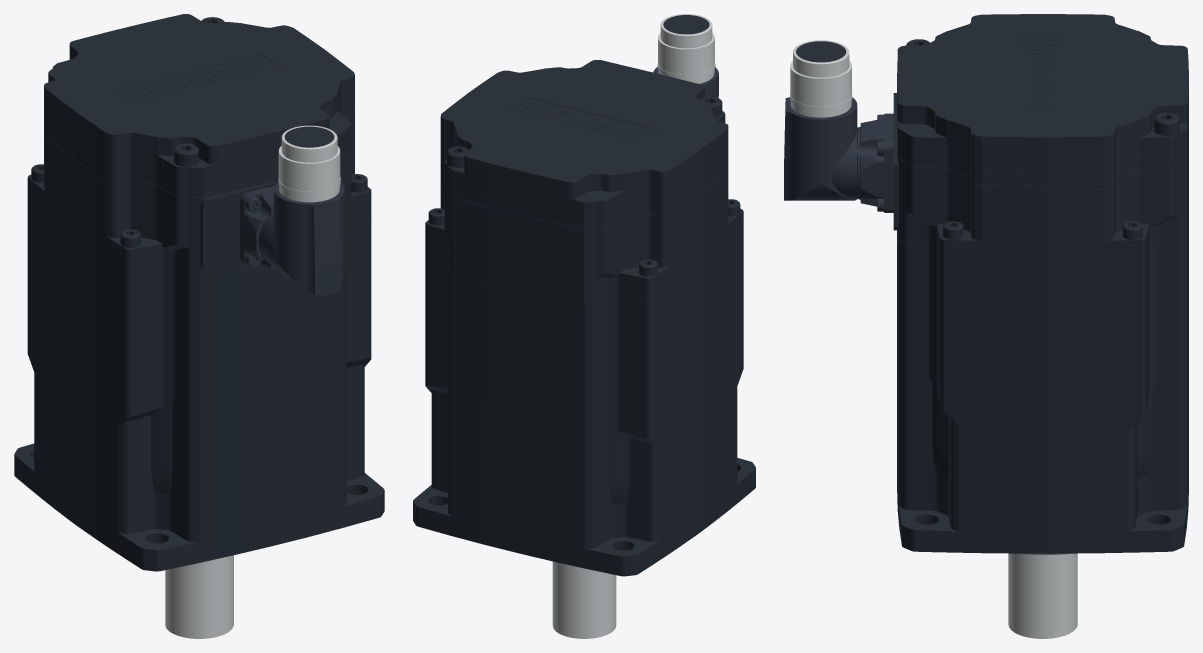
The picture shows the model from 3 angles, left to right: view 1: azimuth 30°, elevation 25°; view 2: azimuth 150°, elevation 25°; view 3: azimuth 270°, elevation 25°; orthographic projection. The views are drawn at different scales.
Parts seen in each view (by area): view 1: 1FK21045AF000MA0_PART1, 1FK21045AF000MA0_PART4, 1FK21045AF000MA0_PART2, 1FK21045AF000MA0_PART6, 1FK21045AF000MA0_PART9, 1FK21045AF000MA0_PART3, 1FK21045AF000MA0_PART5, 1FK21045AF000MA0_PART7; view 2: 1FK21045AF000MA0_PART1, 1FK21045AF000MA0_PART4, 1FK21045AF000MA0_PART2, 1FK21045AF000MA0_PART9, 1FK21045AF000MA0_PART3, 1FK21045AF000MA0_PART6, 1FK21045AF000MA0_PART7; view 3: 1FK21045AF000MA0_PART1, 1FK21045AF000MA0_PART4, 1FK21045AF000MA0_PART2, 1FK21045AF000MA0_PART6, 1FK21045AF000MA0_PART9, 1FK21045AF000MA0_PART3, 1FK21045AF000MA0_PART5, 1FK21045AF000MA0_PART7.
Part boxes in pixels (x1,y1,x2,y2): 1FK21045AF000MA0_PART1: (14, 202, 384, 571); 1FK21045AF000MA0_PART4: (44, 14, 354, 183); 1FK21045AF000MA0_PART2: (27, 123, 371, 277); 1FK21045AF000MA0_PART6: (260, 125, 344, 295); 1FK21045AF000MA0_PART9: (165, 555, 233, 638); 1FK21045AF000MA0_PART3: (44, 110, 354, 197); 1FK21045AF000MA0_PART5: (240, 186, 276, 269); 1FK21045AF000MA0_PART7: (284, 126, 334, 147); 1FK21045AF000MA0_PART1: (413, 234, 755, 576); 1FK21045AF000MA0_PART4: (440, 60, 728, 217); 1FK21045AF000MA0_PART2: (425, 161, 743, 303); 1FK21045AF000MA0_PART9: (552, 561, 616, 638); 1FK21045AF000MA0_PART3: (440, 149, 728, 229); 1FK21045AF000MA0_PART6: (653, 14, 718, 97); 1FK21045AF000MA0_PART7: (663, 15, 709, 34); 1FK21045AF000MA0_PART1: (897, 209, 1188, 554); 1FK21045AF000MA0_PART4: (897, 14, 1188, 171); 1FK21045AF000MA0_PART2: (893, 93, 1188, 266); 1FK21045AF000MA0_PART6: (784, 40, 857, 200); 1FK21045AF000MA0_PART9: (1008, 553, 1077, 638); 1FK21045AF000MA0_PART3: (897, 113, 1188, 185); 1FK21045AF000MA0_PART5: (857, 113, 893, 212); 1FK21045AF000MA0_PART7: (796, 41, 846, 62).
Size of the model in its own units: 0.08 by 0.1732 by 0.111.
